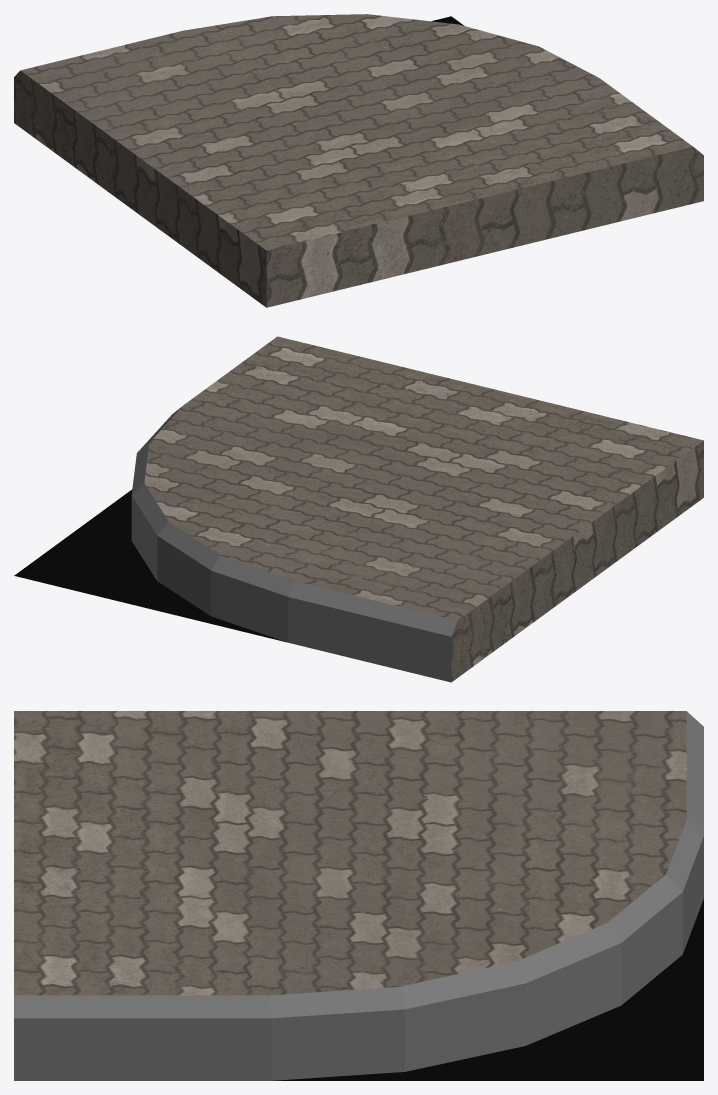
File: External_round_sidewalk.fbx
3 views of the same model, one above another, from view 1: azimuth 30°, elevation 25°; view 2: azimuth 150°, elevation 25°; view 3: azimuth 270°, elevation 25° (orthographic). The views are drawn at different scales.
Visible parts, largest first — view 1: Esquina redonda; view 2: Esquina redonda; view 3: Esquina redonda.
Boxes of the visible parts, left/top/right/bottom form: Esquina redonda: left=14, top=14, right=703, bottom=307; Esquina redonda: left=14, top=336, right=703, bottom=682; Esquina redonda: left=14, top=711, right=703, bottom=1080.
Bounding box in the file's own units: 800 × 100 × 800.
